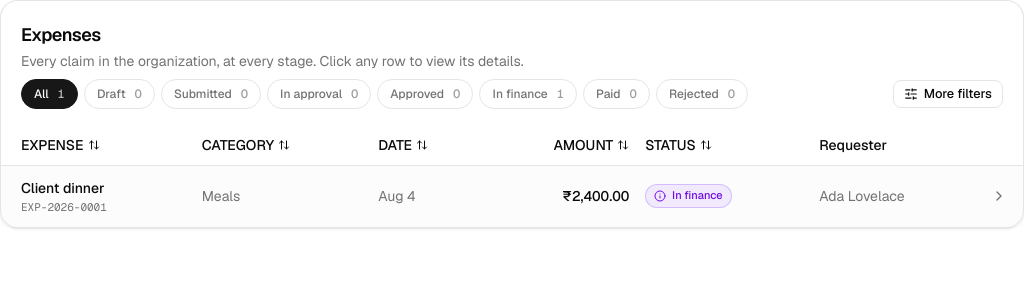
Test: OrgWideExpenseList › shows the empty state when nothing matches
Click the button "Rejected 0": coordinates (702, 94) [656,79,748,109]
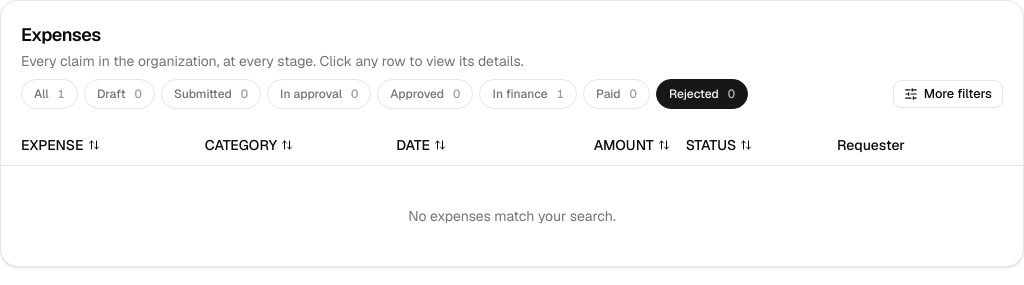
Expected: the text "No expenses match your search." is shown, [1,165,1023,266]
